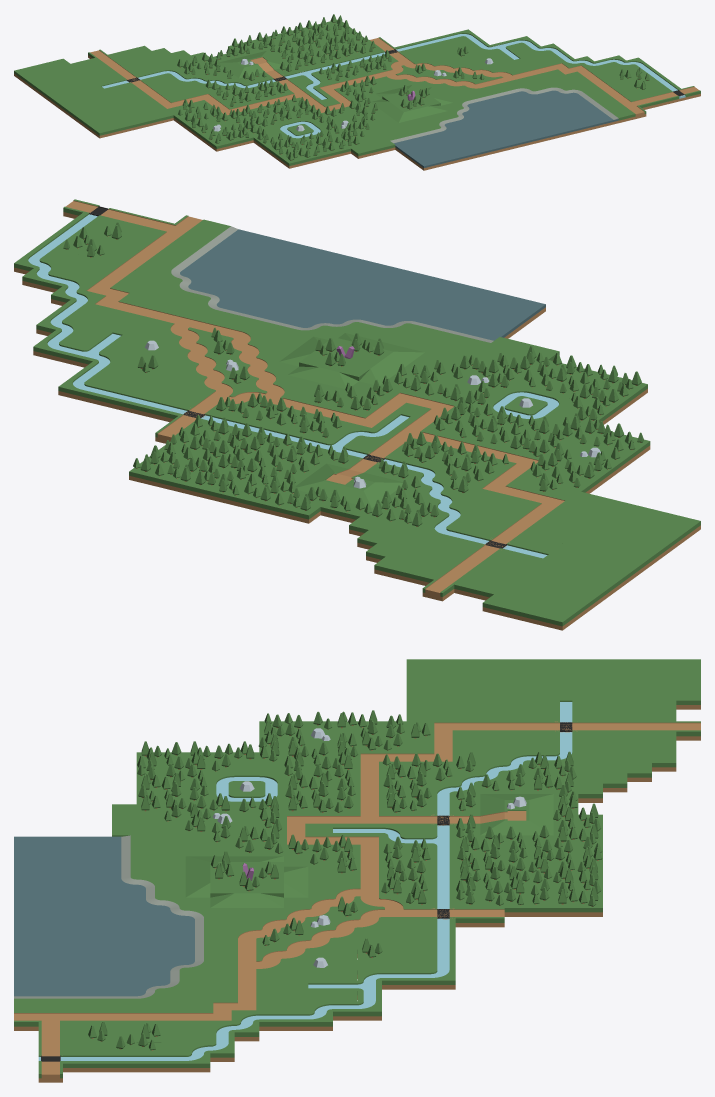
Rendered from Meadow.dae.
The picture shows the model from 3 angles, top to bottom: view 1: azimuth 30°, elevation 25°; view 2: azimuth 150°, elevation 25°; view 3: azimuth 270°, elevation 25°; orthographic projection. The views are drawn at different scales.
Size of the model in its own units: 1575 by 1102 by 49.44.
